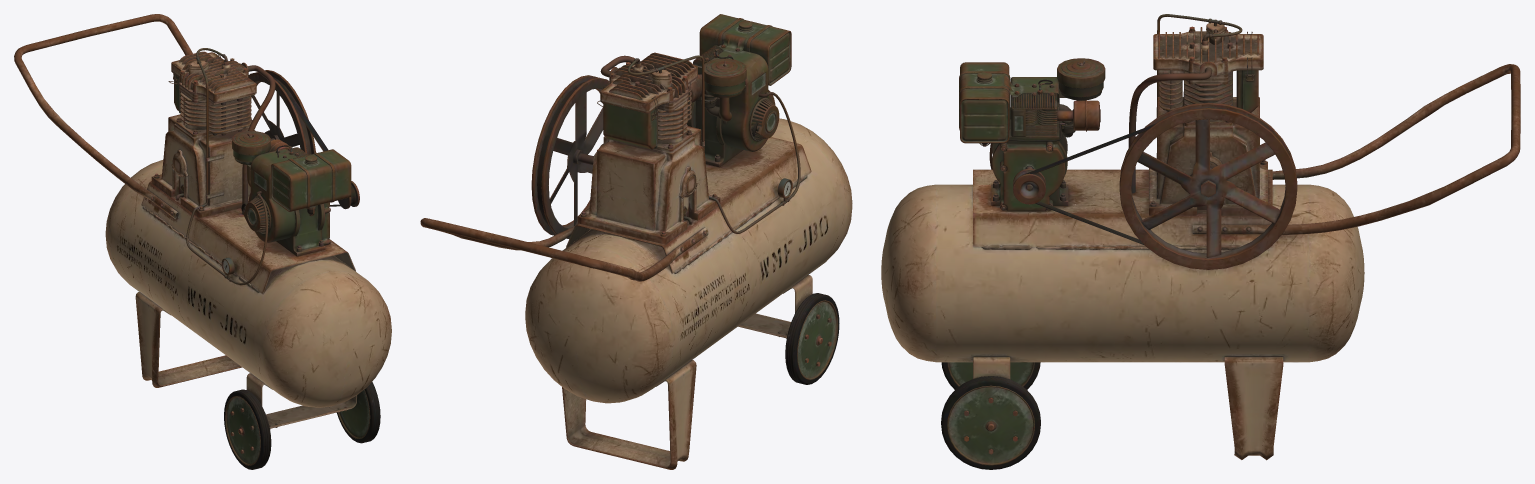
File: old_military_compressor.glb
3 renders of one model, left to right at view 1: azimuth 30°, elevation 25°; view 2: azimuth 150°, elevation 25°; view 3: azimuth 270°, elevation 25°, orthographic. The views are drawn at different scales.
Visible parts, largest first — view 1: old_military_compressor; view 2: old_military_compressor; view 3: old_military_compressor.
Boxes of the visible parts, x1,y1,x2,y2 form: old_military_compressor: [14, 14, 391, 469]; old_military_compressor: [420, 14, 852, 469]; old_military_compressor: [881, 14, 1520, 469].
Size of the model in its own units: 0.5983 by 1.18 by 1.68.
2 materials, 2 textured.
